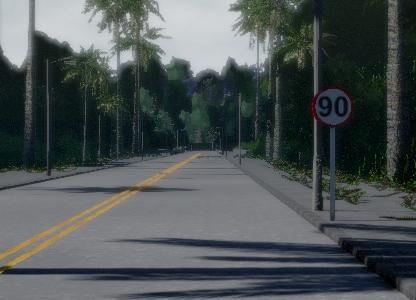Speed_90: (310, 83, 355, 131)
